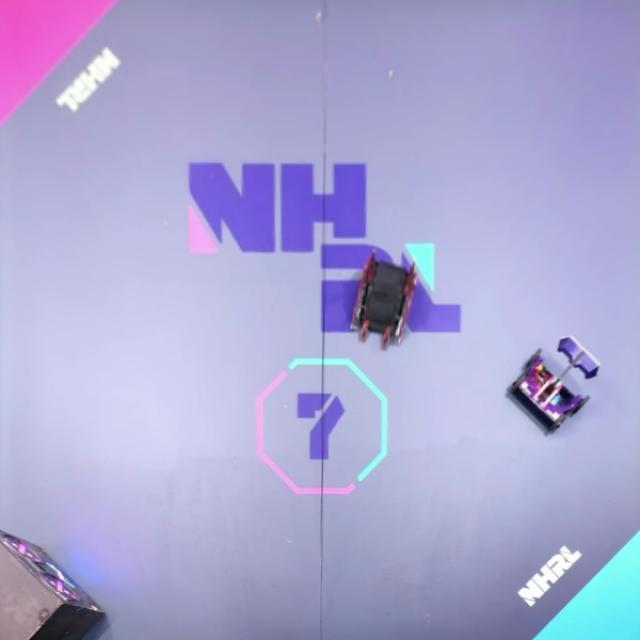housebot: (0, 528, 107, 640)
robot: (509, 335, 601, 433), (352, 249, 418, 351)
